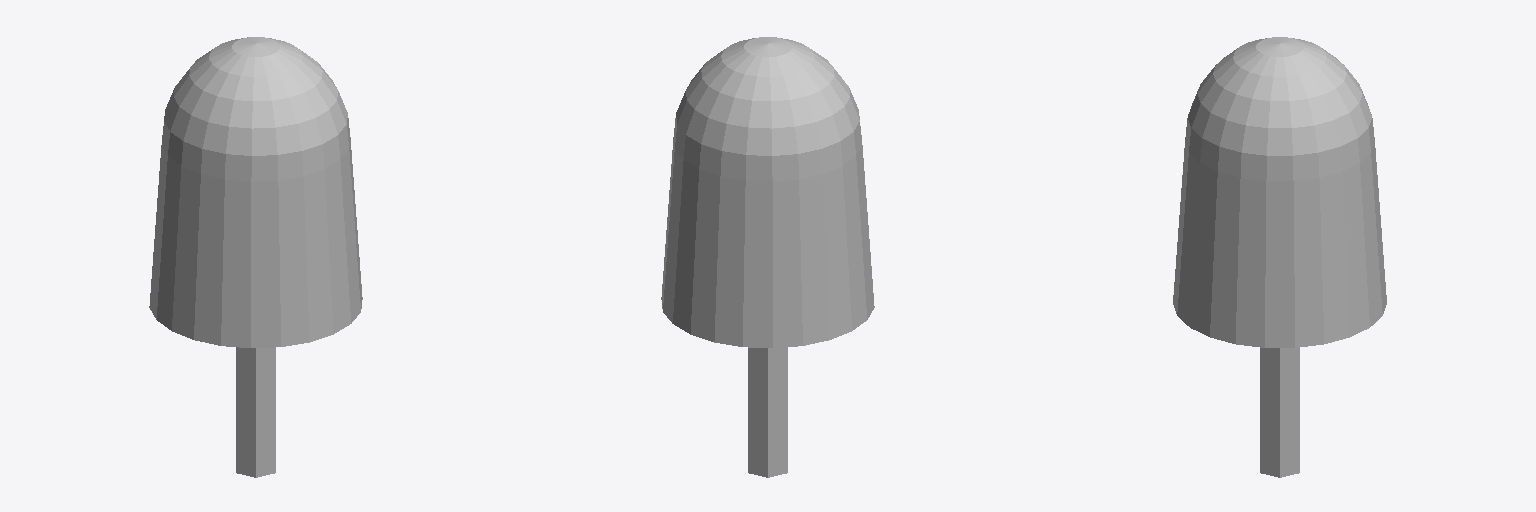
File: MDL_Tree.obj
The picture shows the model from 3 angles: view 1: azimuth 30°, elevation 25°; view 2: azimuth 150°, elevation 25°; view 3: azimuth 270°, elevation 25°; orthographic projection.
Parts seen in each view (by area): view 1: MDL_Tree; view 2: MDL_Tree; view 3: MDL_Tree.
Boxes of the visible parts, x1=… form: MDL_Tree: x1=149, y1=37, x2=362, y2=477; MDL_Tree: x1=661, y1=37, x2=874, y2=477; MDL_Tree: x1=1173, y1=37, x2=1386, y2=477.
Size of the model in its own units: 2.24 by 4.95 by 2.26.